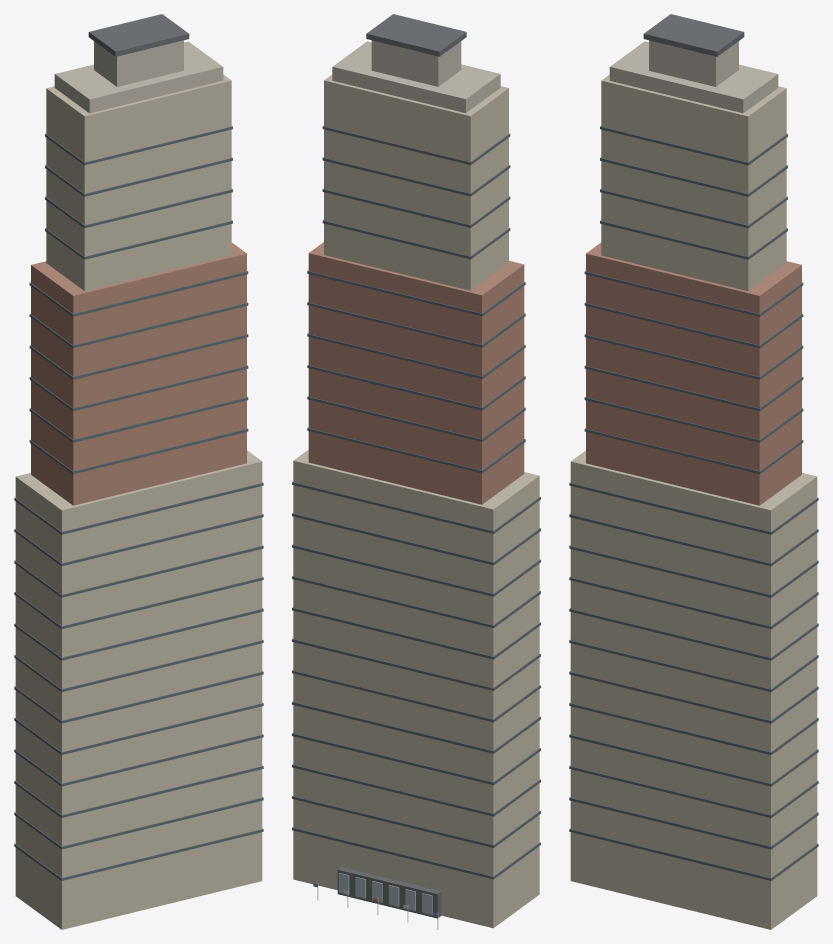
The model's file is rockefeller.glb.
3 renders of one model, left to right at view 1: azimuth 30°, elevation 25°; view 2: azimuth 150°, elevation 25°; view 3: azimuth 330°, elevation 25°, orthographic.
Parts seen in each view (by area): view 1: Mesh; view 2: Mesh; view 3: Mesh.
Part boxes in pixels (<box>): Mesh: <box>14,14,263,929</box>; Mesh: <box>292,14,540,929</box>; Mesh: <box>569,14,818,929</box>.
Size of the model in its own units: 60.5 by 245 by 32.33.
